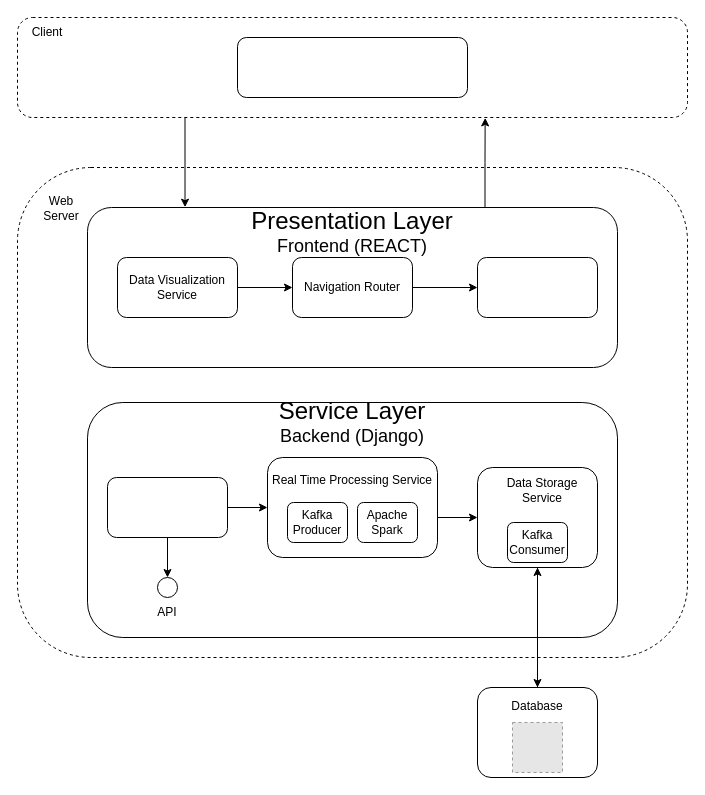
The diagram is 705 pixels wide and 795 high, and some of its shapes have lost their labels. Grey dashed boxes stand in for pictures. The shapes that lost their labels are listed below. From the top down, each one's centre as x and y in pixels, then its label:
point (352, 67): Web browser (HTML, CSS, JavaScript)
point (537, 287): UI
point (167, 507): Data Ingestion Service
